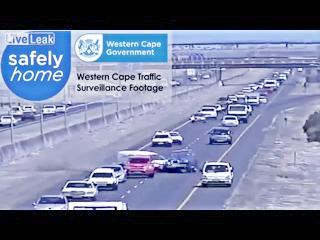Car: (117, 150, 168, 171), (200, 160, 234, 186), (165, 150, 200, 174), (61, 180, 98, 200), (124, 155, 156, 178), (89, 168, 119, 190), (67, 200, 128, 210), (32, 194, 67, 210), (207, 127, 233, 145), (228, 103, 251, 121), (151, 131, 172, 147), (199, 106, 218, 119), (221, 115, 240, 127), (0, 115, 20, 126), (167, 131, 183, 144), (243, 93, 259, 105), (189, 113, 206, 123), (22, 105, 37, 115), (9, 106, 24, 116), (210, 103, 225, 112), (261, 86, 276, 95), (42, 105, 56, 114), (263, 79, 277, 88), (217, 97, 229, 106), (258, 95, 269, 104), (226, 95, 238, 103), (241, 86, 254, 93), (55, 105, 66, 113), (61, 100, 72, 107), (200, 73, 211, 79), (171, 80, 180, 87), (189, 76, 198, 81), (298, 68, 303, 72), (220, 68, 226, 71)
Major Accident: (116, 149, 199, 173)
